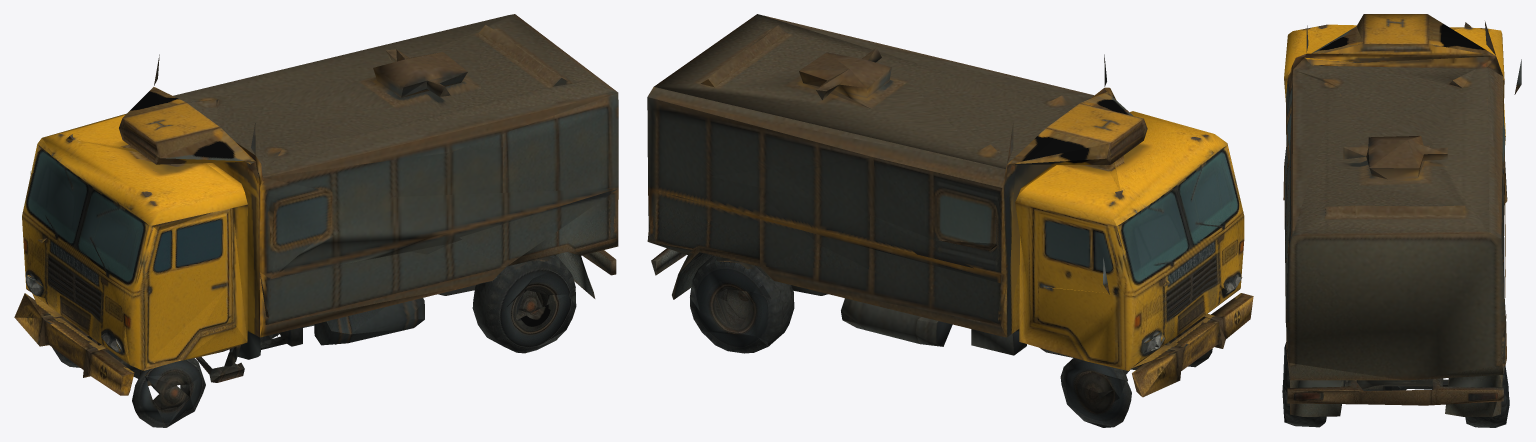
File: Meshy_AI_a_run_down_truck_that_0822235413_texture.obj
3 views of the same model, side by side, from view 1: azimuth 30°, elevation 25°; view 2: azimuth 150°, elevation 25°; view 3: azimuth 270°, elevation 25° (orthographic). The views are drawn at different scales.
Visible parts, largest first — view 1: Meshy_AI_a_run_down_truck_that_0822235413_texture; view 2: Meshy_AI_a_run_down_truck_that_0822235413_texture; view 3: Meshy_AI_a_run_down_truck_that_0822235413_texture.
Boxes of the visible parts, x1=… form: Meshy_AI_a_run_down_truck_that_0822235413_texture: x1=14, y1=14, x2=618, y2=427; Meshy_AI_a_run_down_truck_that_0822235413_texture: x1=647, y1=14, x2=1253, y2=427; Meshy_AI_a_run_down_truck_that_0822235413_texture: x1=1282, y1=14, x2=1521, y2=427.
Size of the model in its own units: 1.89 by 1.05 by 0.823.
